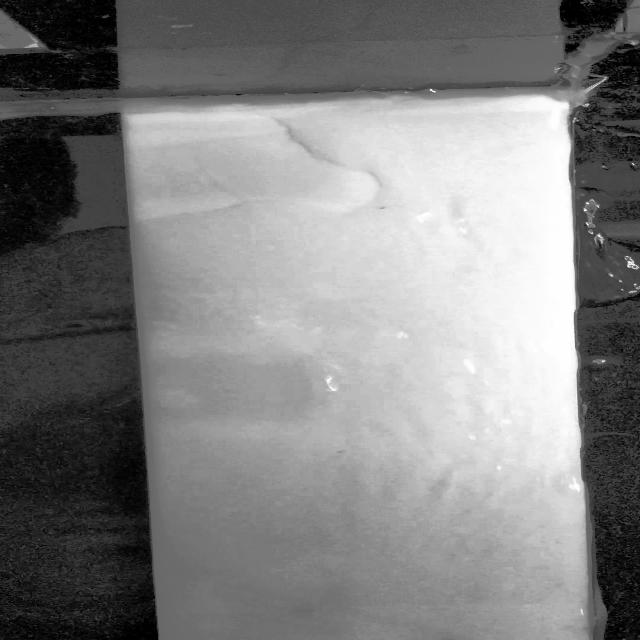shrimp: (286, 602, 324, 620)
